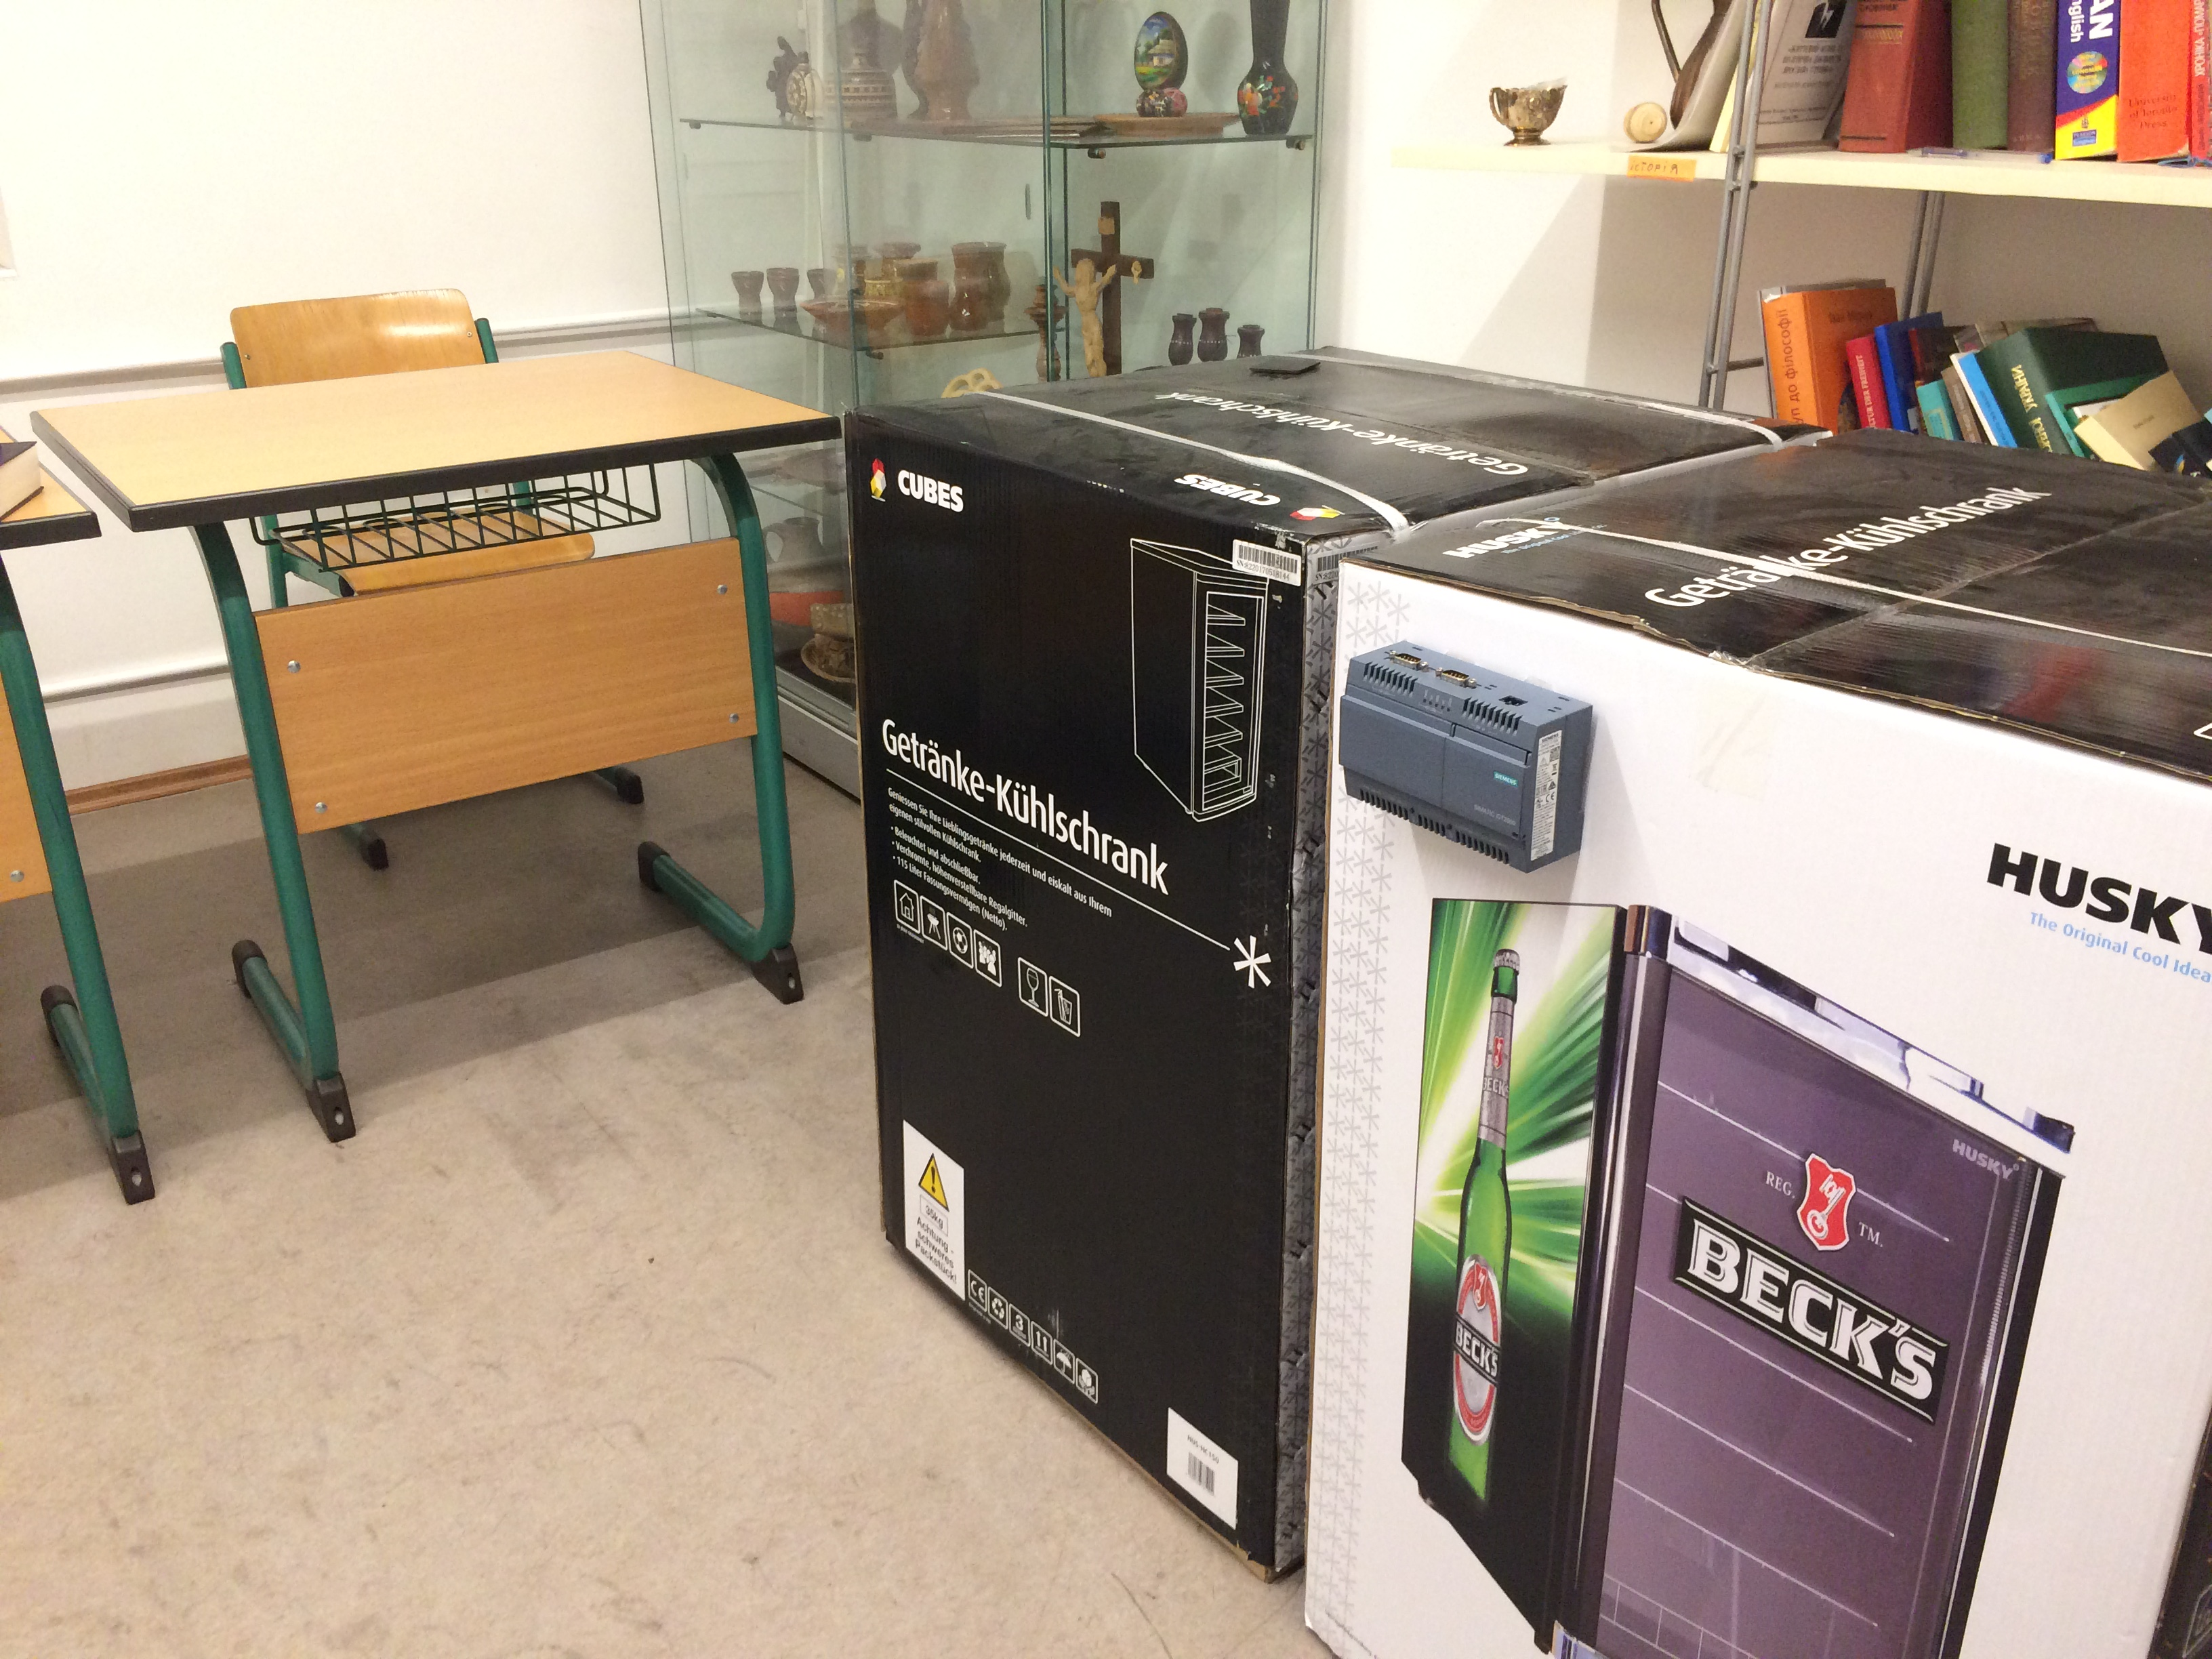iot2000: (1336, 638, 1597, 878)
